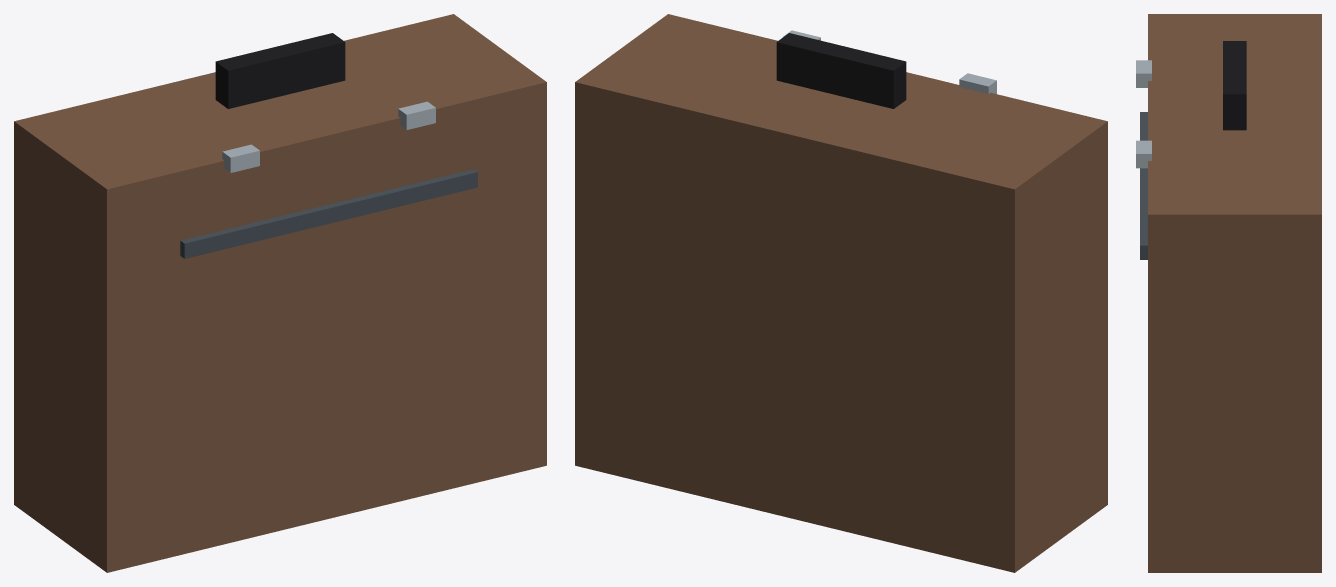
File: GD_Suitcase_01.glb
3 views of the same model, side by side, from view 1: azimuth 30°, elevation 25°; view 2: azimuth 150°, elevation 25°; view 3: azimuth 270°, elevation 25° (orthographic). The views are drawn at different scales.
Visible parts, largest first — view 1: GD_Suitcase_01; view 2: GD_Suitcase_01; view 3: GD_Suitcase_01.
Boxes of the visible parts, x1,y1,x2,y2 form: GD_Suitcase_01: [14, 14, 546, 572]; GD_Suitcase_01: [575, 14, 1107, 572]; GD_Suitcase_01: [1136, 14, 1321, 572].
Size of the model in its own units: 0.6 by 0.565 by 0.235.
1 material, 1 textured.
